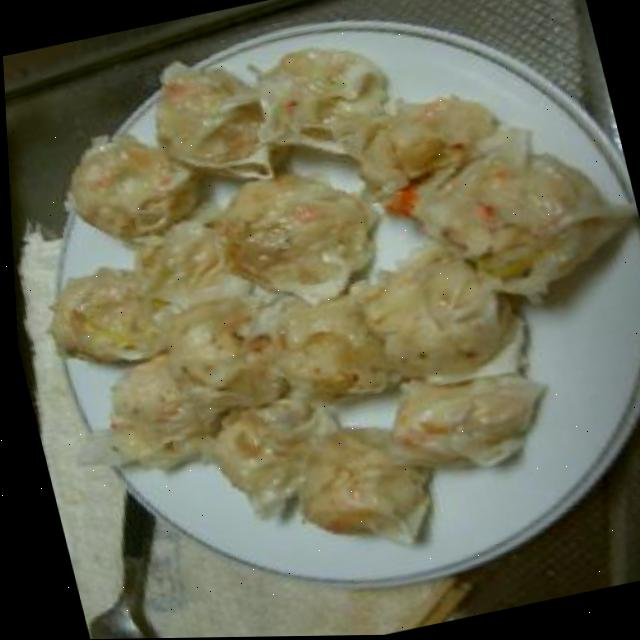带馅早点: (70, 65, 591, 535)
